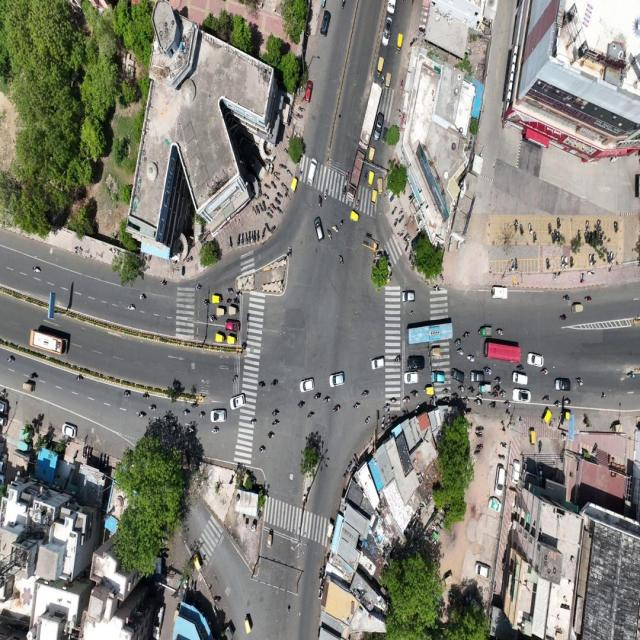3W: (240, 610, 257, 633), (192, 550, 204, 575), (540, 408, 554, 429), (395, 32, 406, 58), (265, 525, 276, 550), (381, 126, 390, 151), (19, 383, 37, 395), (376, 55, 385, 79), (227, 305, 241, 320), (213, 330, 226, 346), (528, 426, 537, 448), (572, 300, 584, 316), (384, 70, 392, 94), (350, 209, 361, 226), (377, 177, 385, 200), (477, 325, 492, 337), (290, 176, 300, 194), (370, 188, 378, 210), (367, 147, 375, 166), (477, 385, 493, 394), (227, 333, 239, 345), (211, 293, 222, 305), (424, 385, 437, 395), (216, 305, 226, 318), (368, 170, 374, 188)
Bus: (27, 325, 72, 358), (403, 319, 454, 344)
Cars: (309, 212, 326, 250), (474, 555, 493, 580), (61, 417, 80, 441), (491, 279, 510, 303), (319, 9, 332, 44), (302, 76, 317, 105), (380, 15, 393, 48), (374, 110, 386, 143), (511, 388, 533, 404), (307, 158, 319, 187), (210, 406, 228, 425), (510, 369, 529, 387), (493, 465, 506, 491), (554, 375, 572, 393), (370, 351, 386, 371), (328, 372, 347, 388), (450, 365, 465, 385), (527, 350, 544, 367), (428, 369, 446, 385), (296, 377, 316, 391), (408, 356, 426, 371), (231, 394, 248, 409), (225, 319, 243, 333), (470, 370, 486, 385), (402, 372, 421, 384), (401, 290, 416, 303)
M2W: (31, 256, 41, 284), (331, 403, 344, 417), (429, 345, 443, 358), (606, 248, 615, 267), (5, 351, 15, 368), (543, 256, 553, 273), (576, 374, 586, 391), (72, 372, 85, 385), (258, 373, 265, 396), (296, 396, 306, 412), (205, 313, 218, 325), (127, 300, 138, 314), (393, 351, 402, 368), (363, 413, 373, 428), (337, 252, 346, 268), (310, 391, 322, 403), (555, 214, 564, 230), (600, 388, 609, 404), (332, 222, 344, 234), (351, 401, 362, 414), (192, 280, 203, 293), (227, 234, 234, 253), (195, 410, 207, 421), (512, 215, 518, 237), (361, 387, 371, 400), (410, 387, 420, 400), (391, 215, 400, 229), (122, 387, 132, 399), (249, 415, 259, 427), (270, 408, 282, 418), (323, 392, 333, 404), (499, 437, 509, 449), (527, 217, 533, 237), (542, 393, 552, 405), (487, 399, 497, 411), (584, 217, 591, 234), (236, 233, 243, 250), (27, 370, 40, 379), (142, 388, 151, 401), (271, 375, 280, 388), (613, 218, 619, 237), (467, 351, 474, 367), (260, 226, 267, 242), (340, 185, 347, 201), (211, 426, 222, 436), (306, 412, 317, 422), (560, 255, 565, 277), (277, 160, 288, 170), (138, 292, 148, 303), (224, 284, 235, 294), (182, 406, 191, 418), (519, 221, 525, 239), (510, 257, 516, 275), (587, 250, 593, 268), (402, 394, 411, 406), (564, 395, 573, 407), (283, 131, 292, 143), (353, 198, 362, 210), (343, 168, 350, 183), (259, 443, 267, 456), (286, 601, 292, 618), (547, 220, 553, 237), (476, 422, 486, 432), (569, 253, 574, 273), (558, 312, 568, 322), (443, 386, 453, 396), (261, 191, 271, 201), (233, 295, 243, 305), (136, 409, 147, 418), (267, 430, 276, 441), (498, 451, 507, 462), (495, 374, 504, 385), (316, 194, 323, 208), (463, 328, 471, 340), (453, 336, 461, 348), (327, 227, 333, 243), (402, 241, 410, 253), (362, 169, 368, 185), (474, 432, 487, 439), (457, 348, 464, 361), (272, 419, 282, 428), (595, 217, 601, 232), (584, 293, 594, 302), (496, 327, 505, 337), (539, 368, 549, 377), (500, 389, 509, 399), (298, 105, 307, 115), (252, 230, 258, 245), (381, 71, 386, 89), (269, 179, 277, 190), (390, 204, 398, 215), (473, 441, 485, 448), (563, 292, 570, 304), (553, 398, 560, 410), (323, 188, 329, 202), (251, 205, 257, 219), (281, 181, 288, 193), (148, 403, 157, 412), (474, 448, 483, 457), (272, 197, 281, 206), (224, 296, 233, 305), (399, 230, 408, 239), (491, 390, 499, 400), (281, 145, 289, 155), (202, 297, 210, 307), (399, 204, 405, 217), (533, 229, 538, 244), (475, 399, 484, 407), (457, 384, 465, 393), (485, 365, 492, 375), (296, 112, 303, 122), (391, 396, 397, 407), (468, 386, 475, 395), (259, 201, 264, 213), (288, 168, 294, 177), (594, 252, 597, 269), (245, 230, 248, 247), (494, 385, 501, 392)
Truck: (352, 78, 385, 150), (346, 148, 367, 208)
